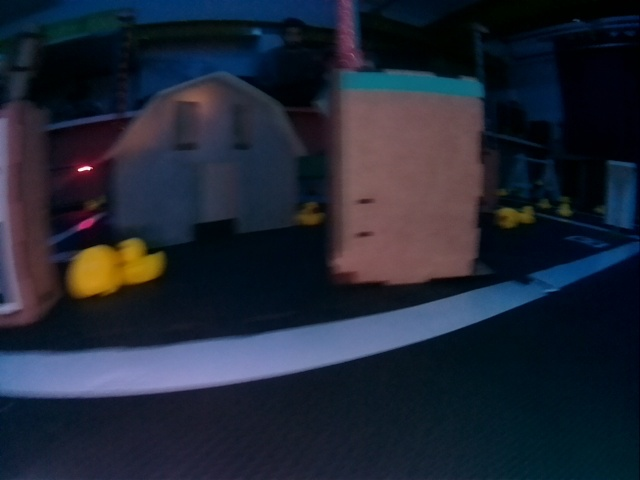Duckie: (67, 246, 119, 297), (122, 238, 165, 284), (298, 203, 324, 226), (495, 208, 518, 230), (521, 206, 537, 224), (558, 203, 573, 217), (539, 198, 551, 208)
QR code: (566, 235, 609, 249)
